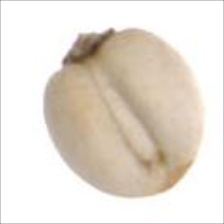L5: (87, 57, 163, 169), (138, 152, 200, 201), (59, 27, 120, 67)
L6: (42, 26, 204, 201)
